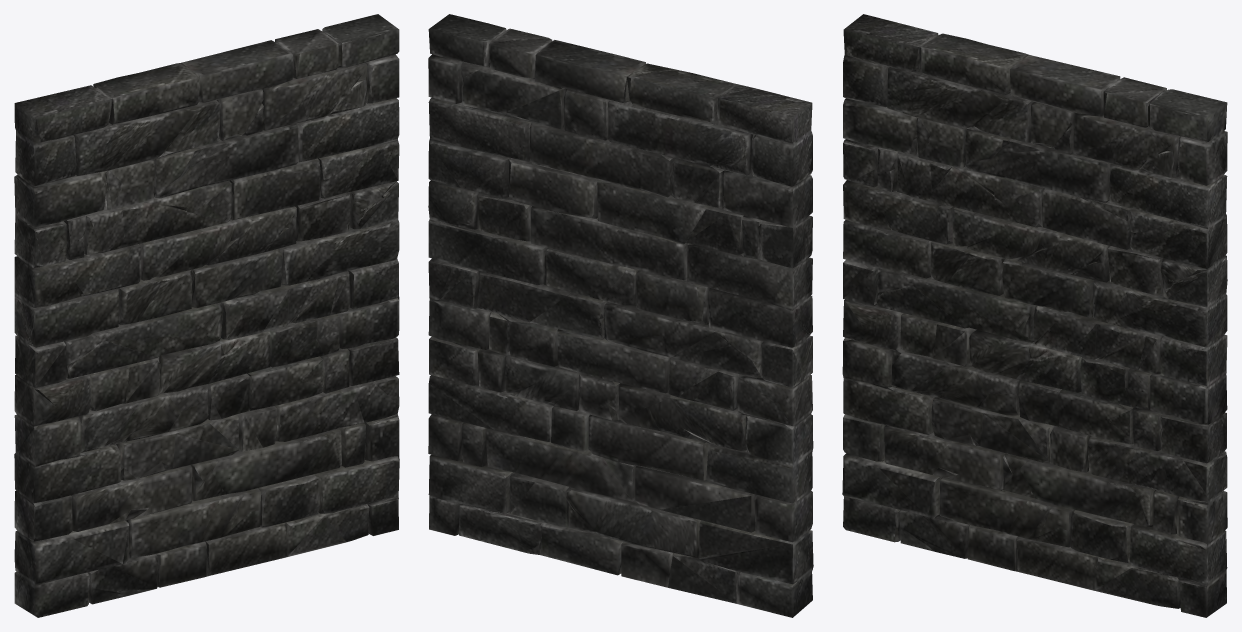
The model's file is throne-panel2.glb.
3 renders of one model, left to right at view 1: azimuth 30°, elevation 25°; view 2: azimuth 150°, elevation 25°; view 3: azimuth 330°, elevation 25°, orthographic.
Visible parts, largest first — view 1: mesh_0; view 2: mesh_0; view 3: mesh_0.
Part boxes in pixels (bbox=[...]): mesh_0: bbox=[14, 14, 399, 617]; mesh_0: bbox=[428, 14, 813, 617]; mesh_0: bbox=[842, 14, 1227, 617].
Size of the model in its own units: 1.52 by 2 by 0.1613.
1 material, 1 textured.
